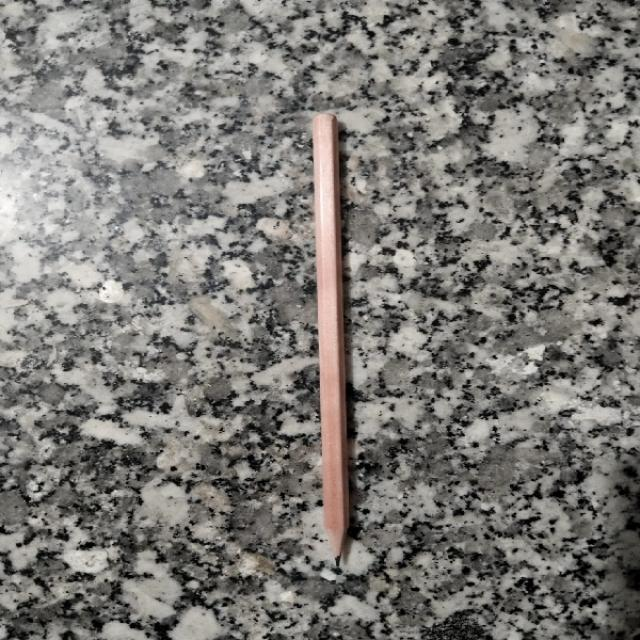pencil: (313, 115, 348, 564)
